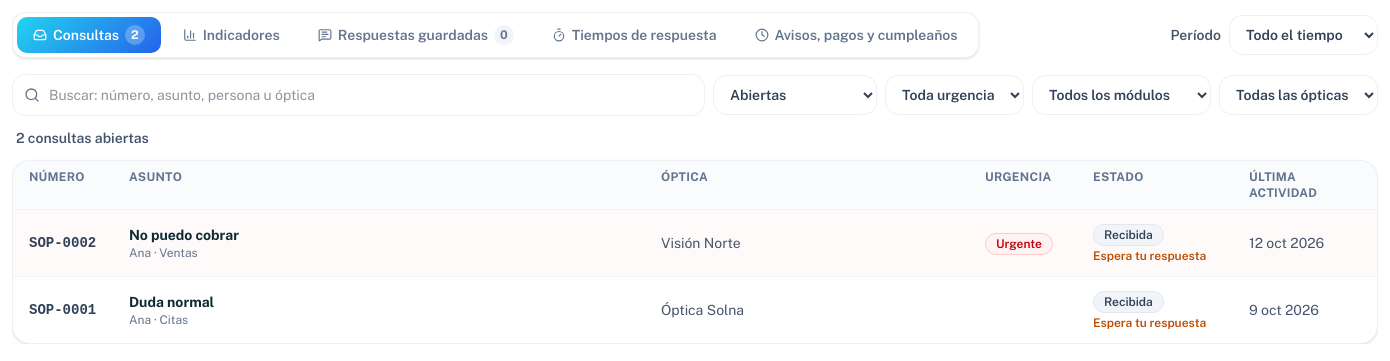
Scenario: Soporte del superadmin: indicadores › muestra los tiempos, la satisfacción y los módulos con más consultas, y cada número lleva a su lista
Click the tab "Indicadores" at (231,35), box [167,17,296,53]
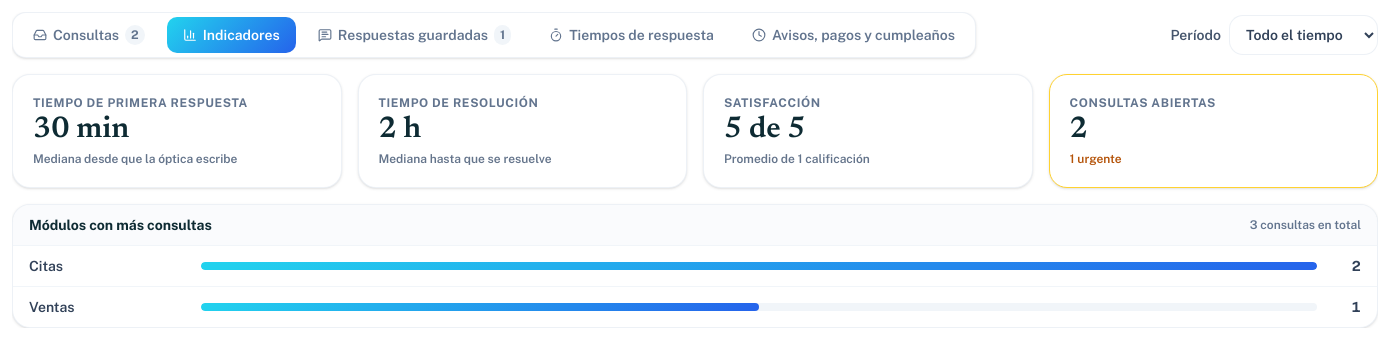
Now the text "Tiempo de primera respuesta" is shown, box [33,96,248,110]
Now the text "30 min" is shown, box [33,115,129,145]
Now the text "2 h" is shown, box [378,115,421,145]
Click the button with aria-label "Ver las 2 consultas de Citas" at (695,266), box [13,246,1377,286]
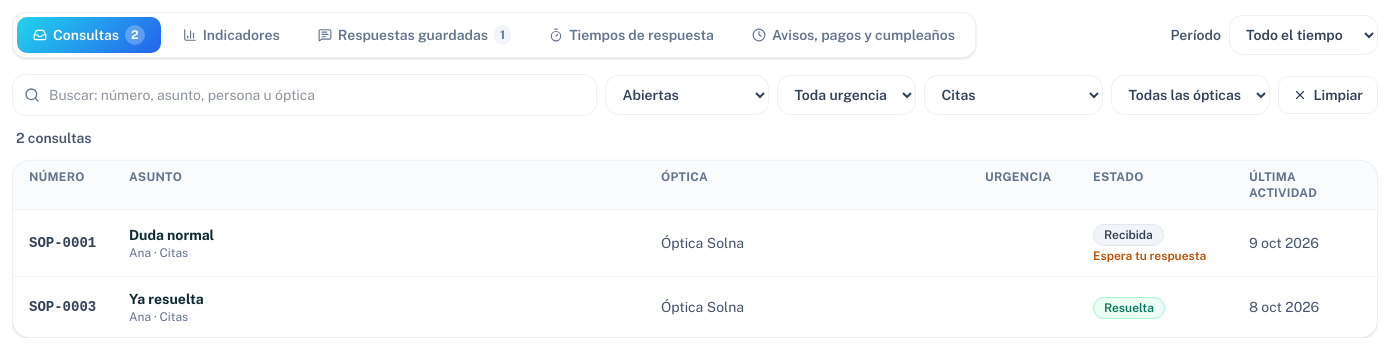
Now the list named "Consultas de soporte" is shown, box [13,210,1377,337]
Now the number of list items is 2, box [13,210,1377,277]; [29,289,1319,324]
